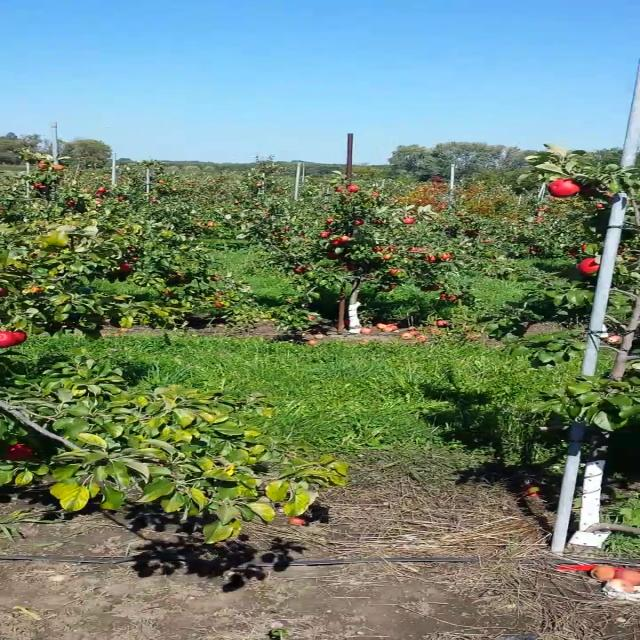apple: (546, 179, 586, 197), (6, 443, 36, 461), (580, 258, 600, 275), (12, 332, 28, 346), (0, 332, 12, 349), (583, 243, 588, 251)
